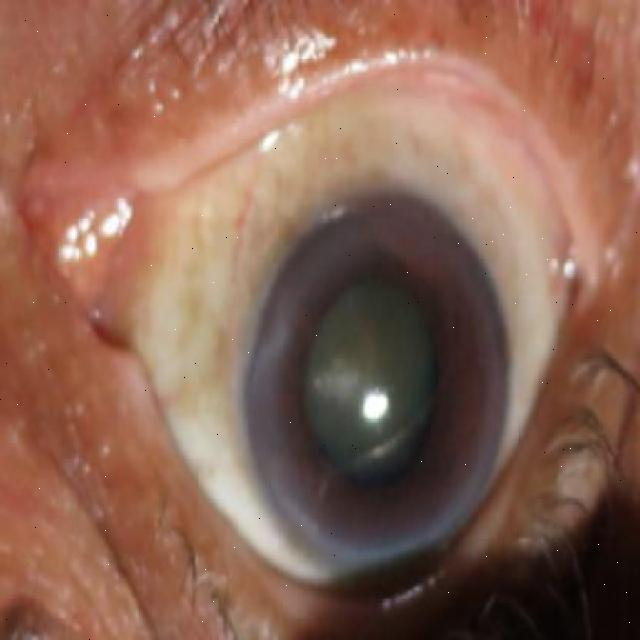Cataract: (242, 192, 507, 576)
